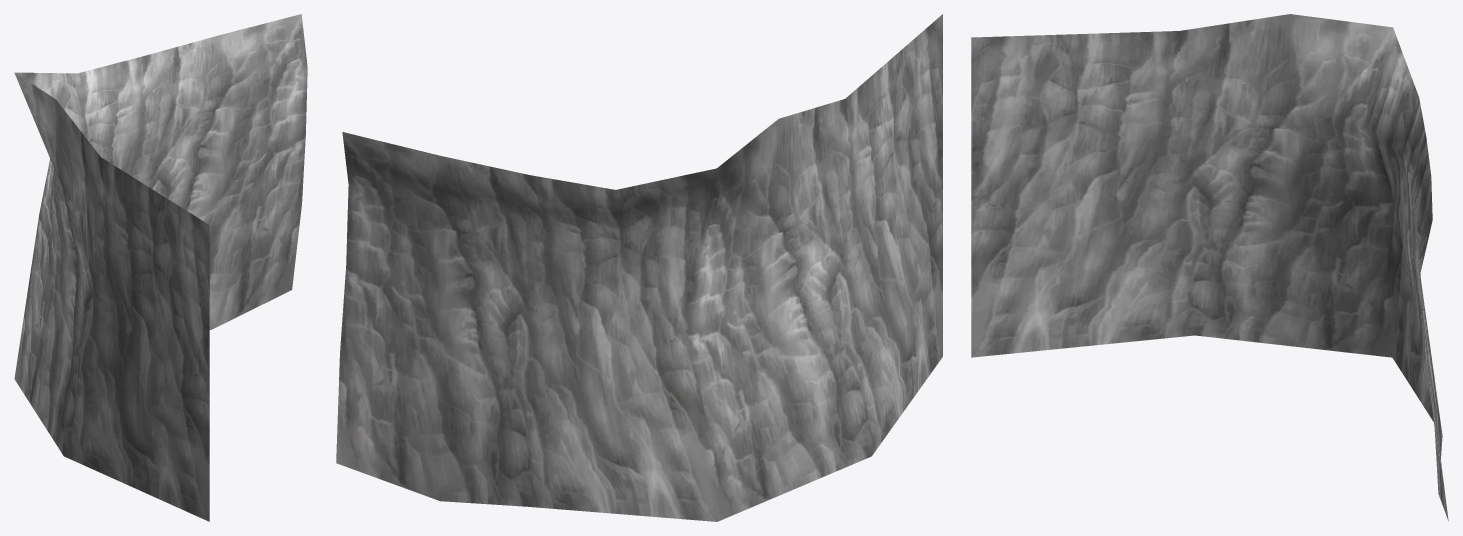
Rendered from SWORDLIGHT20_PS-AREA03_176.fbx.
3 renders of one model, left to right at view 1: azimuth 30°, elevation 25°; view 2: azimuth 150°, elevation 25°; view 3: azimuth 270°, elevation 25°, orthographic. The views are drawn at different scales.
Visible parts, largest first — view 1: SWORDLIGHT20_PS-AREA03_176; view 2: SWORDLIGHT20_PS-AREA03_176; view 3: SWORDLIGHT20_PS-AREA03_176.
Part boxes in pixels (box(x1,y1,x2,y2)): SWORDLIGHT20_PS-AREA03_176: box(14, 14, 307, 521); SWORDLIGHT20_PS-AREA03_176: box(336, 14, 942, 521); SWORDLIGHT20_PS-AREA03_176: box(971, 14, 1448, 520).
Size of the model in its own units: 61969 by 56887 by 68031.
1 material, 1 textured.
